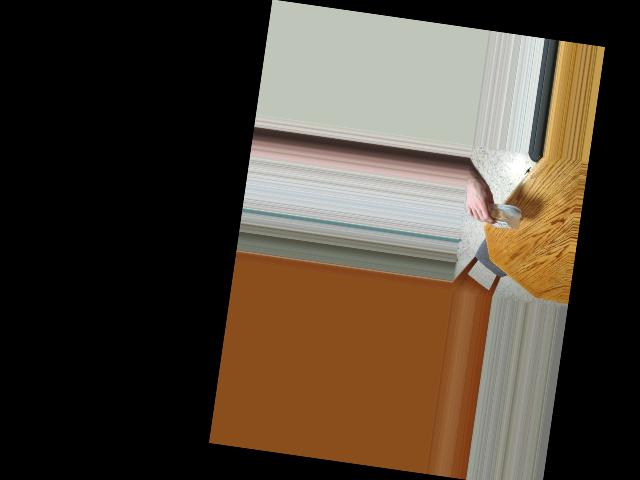cheese: (471, 192, 521, 237)
